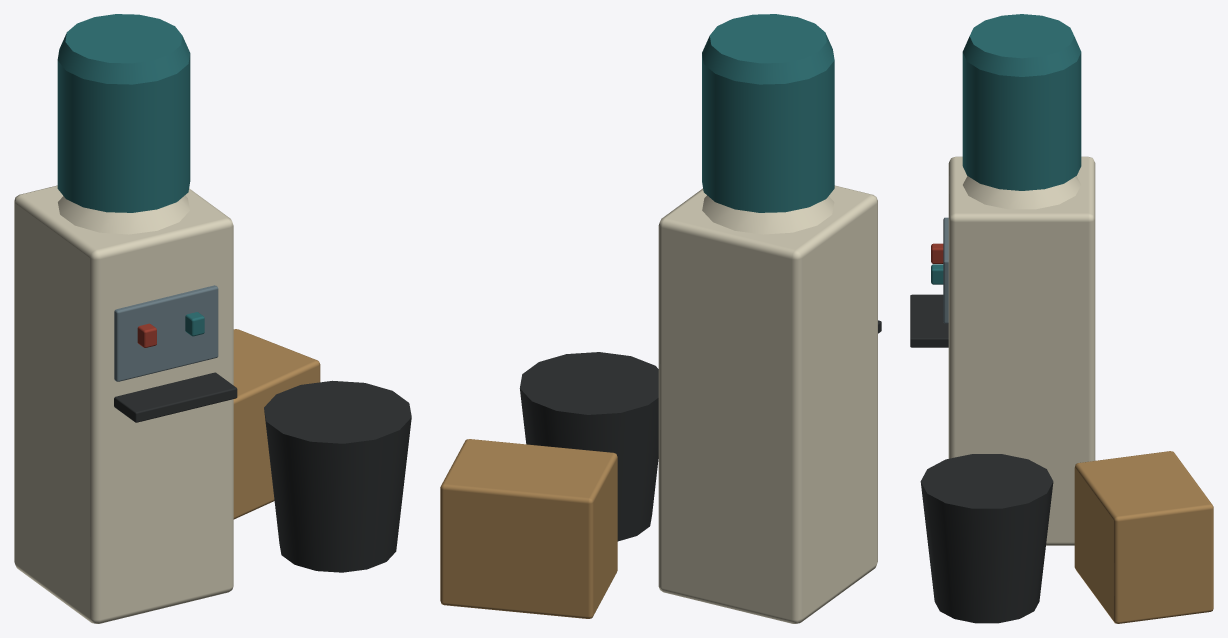
The model's file is water-cooler.glb.
3 renders of one model, left to right at view 1: azimuth 30°, elevation 25°; view 2: azimuth 150°, elevation 25°; view 3: azimuth 270°, elevation 25°, orthographic. The views are drawn at different scales.
Parts seen in each view (by area): view 1: paint-ivory, steel-dark, paint-teal, cardboard, paint-slate; view 2: paint-ivory, cardboard, paint-teal, steel-dark; view 3: paint-ivory, steel-dark, cardboard, paint-teal, paint-slate.
Boxes of the visible parts, box(x1,y1,x2,y2) form: paint-ivory: box(14, 185, 233, 623); steel-dark: box(114, 372, 411, 572); paint-teal: box(57, 14, 204, 336); cardboard: box(233, 329, 320, 519); paint-slate: box(114, 285, 218, 381); paint-ivory: box(658, 185, 877, 623); cardboard: box(440, 439, 617, 618); paint-teal: box(702, 14, 834, 212); steel-dark: box(519, 320, 881, 541); paint-ivory: box(948, 156, 1095, 545); steel-dark: box(910, 294, 1053, 623); cardboard: box(1074, 451, 1213, 623); paint-teal: box(931, 14, 1081, 284); paint-slate: box(943, 217, 948, 323).
Size of the model in its own units: 0.9652 by 1.52 by 0.8689.
